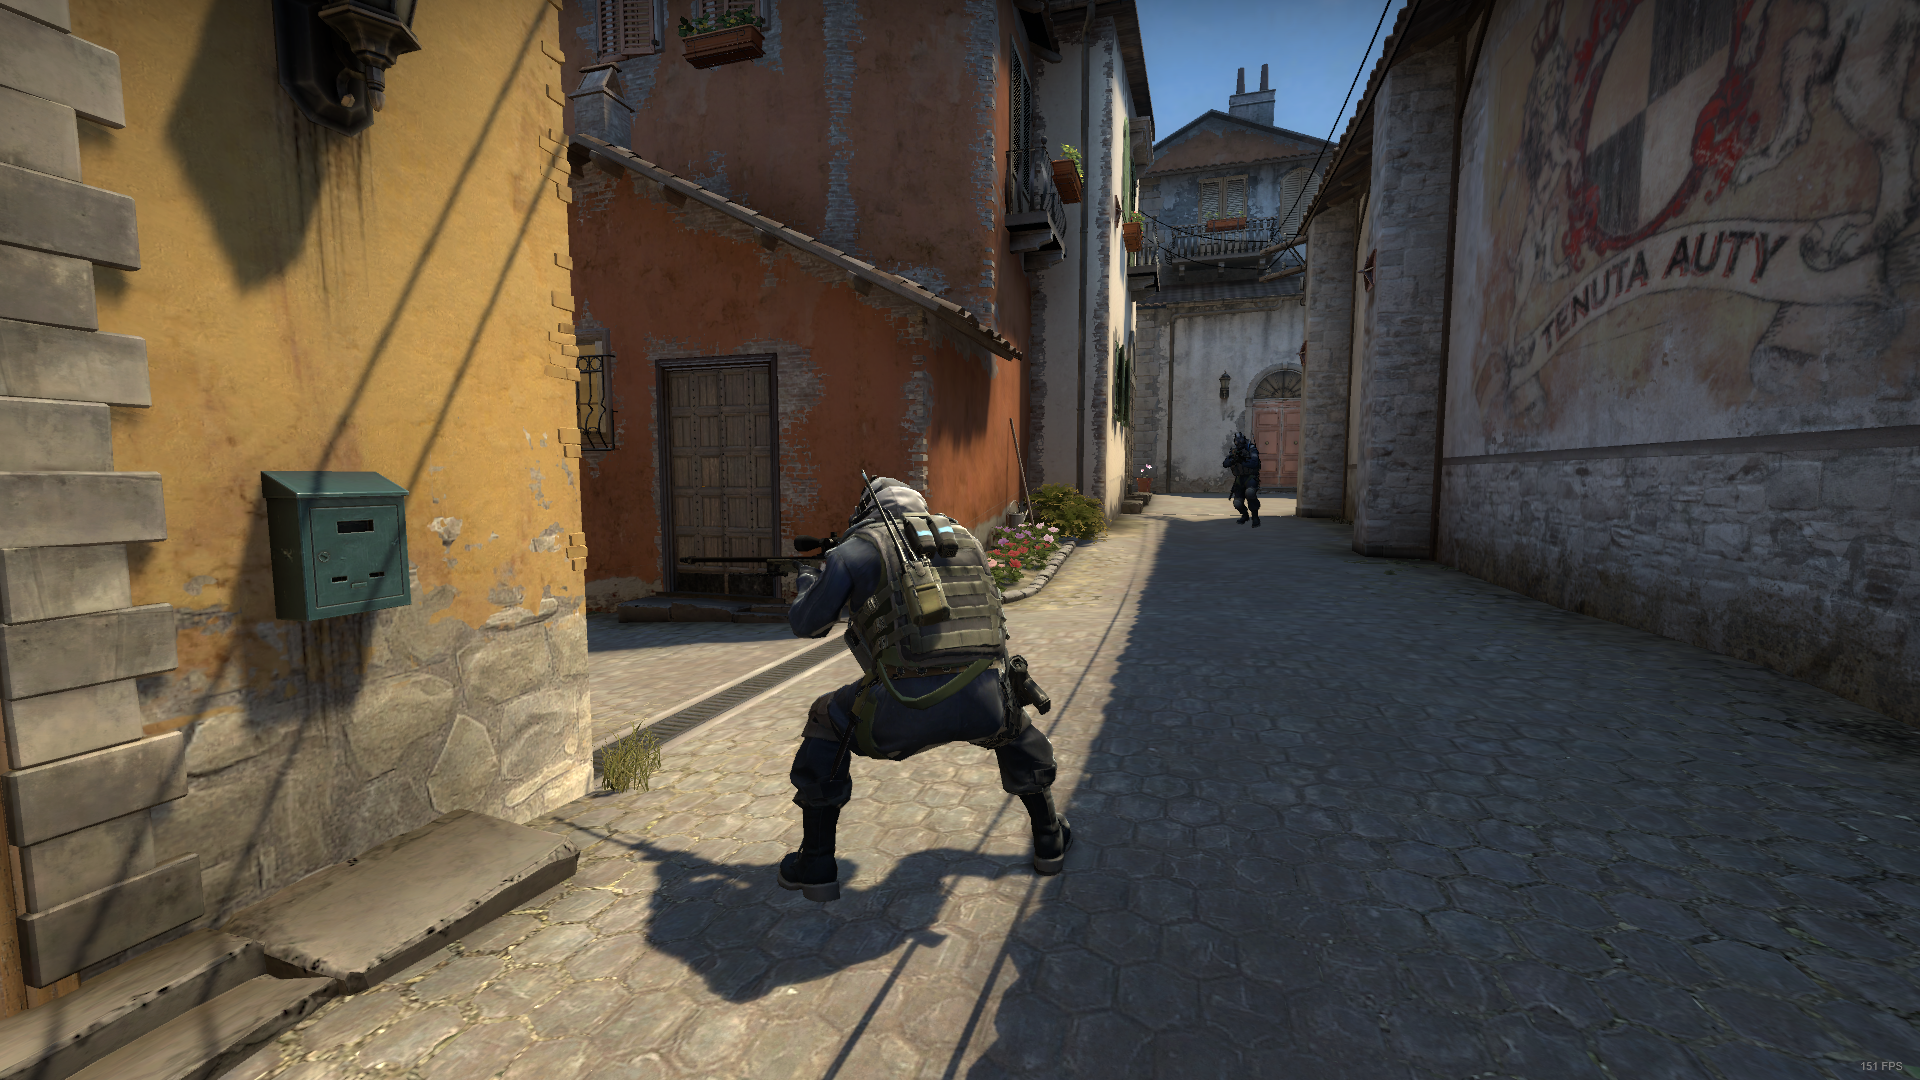ct: (770, 472, 1084, 899), (1215, 430, 1271, 529)
